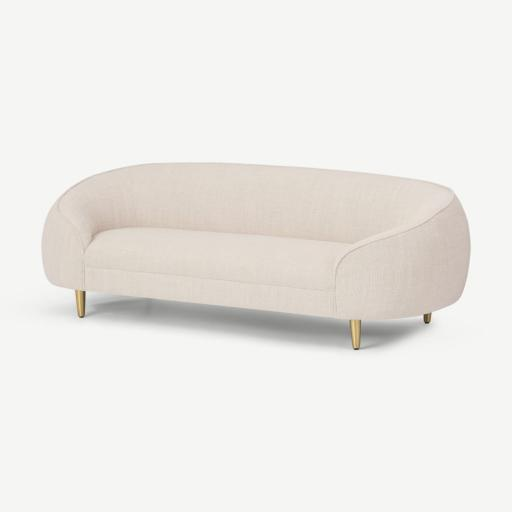back_cushion: (61, 163, 456, 244)
base: (86, 268, 334, 317)
left_arm: (335, 196, 469, 320)
legs: (351, 320, 360, 350), (77, 290, 84, 317), (424, 314, 430, 323), (113, 300, 125, 304), (177, 313, 182, 318)
one-seater: (42, 163, 470, 350)
right_arm: (42, 198, 91, 290)
seat_cushion: (85, 228, 348, 296)
